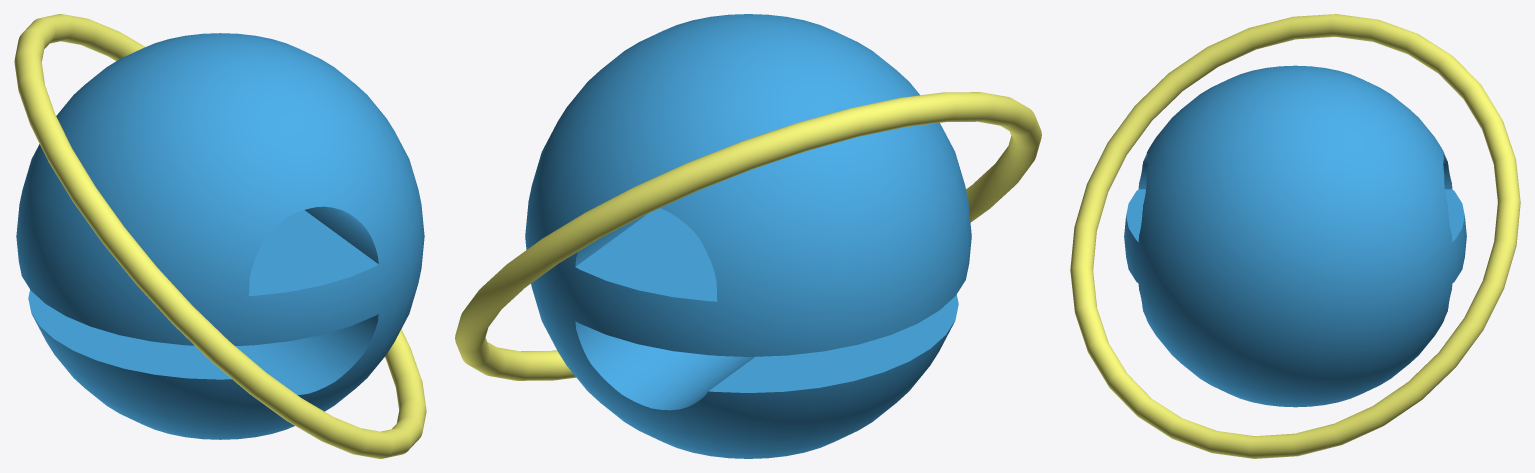
3 renders of one model, left to right at view 1: azimuth 30°, elevation 25°; view 2: azimuth 150°, elevation 25°; view 3: azimuth 270°, elevation 25°, orthographic. The views are drawn at different scales.
Visible parts, largest first — view 1: csg1, torus; view 2: csg1, torus; view 3: csg1, torus.
Part boxes in pixels (x1,y1,x2,y2): csg1: [16, 33, 424, 439]; torus: [14, 14, 426, 458]; csg1: [525, 14, 971, 458]; torus: [455, 92, 1041, 380]; csg1: [1124, 65, 1466, 407]; torus: [1070, 14, 1520, 458].
Bounding box in the file's own units: 83.67 × 75.71 × 98.54.
